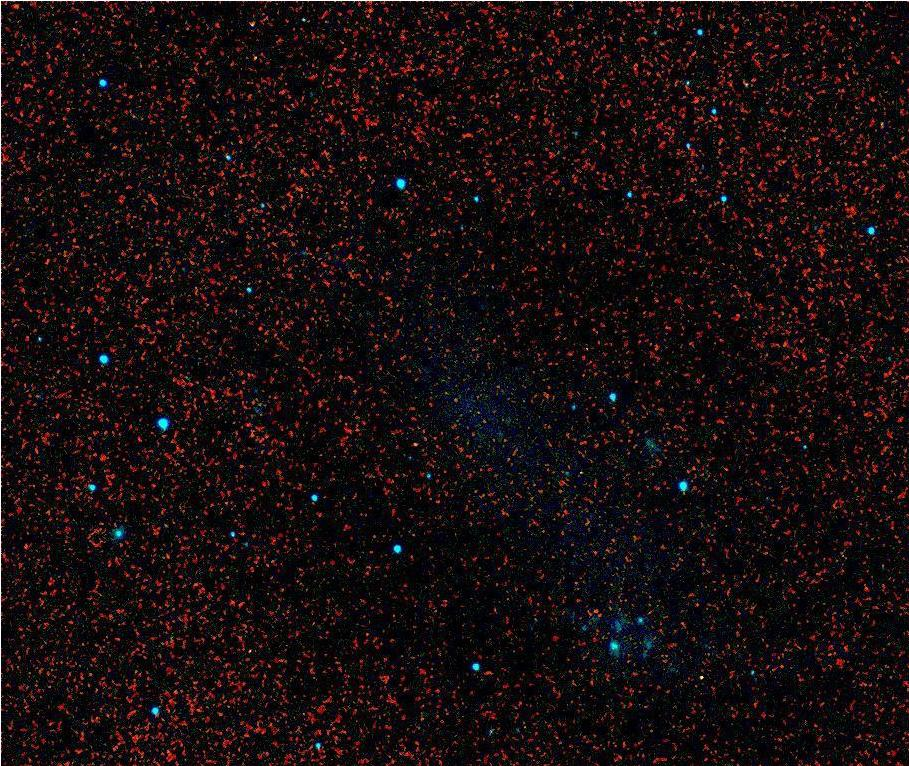star: (438, 382, 468, 412)
